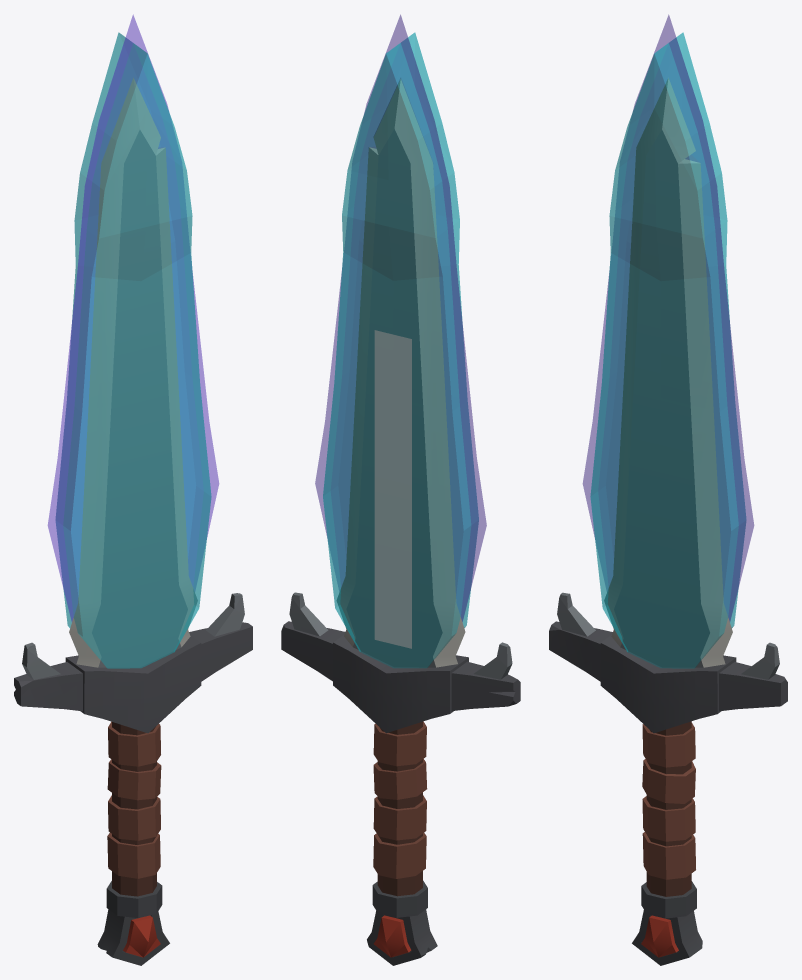
The model's file is rpg_dagger_03.glb.
The picture shows the model from 3 angles, left to right: view 1: azimuth 30°, elevation 25°; view 2: azimuth 150°, elevation 25°; view 3: azimuth 330°, elevation 25°; orthographic projection.
Parts seen in each view (by area): view 1: Dagger_03, skin_enchant_layer_1, skin_enchant_layer_2; view 2: Dagger_03, skin_enchant_layer_1, skin_enchant_layer_2, skin_runes_1; view 3: Dagger_03, skin_enchant_layer_1, skin_enchant_layer_2.
Boxes of the visible parts, bbox=[...] form: Dagger_03: bbox=[14, 78, 252, 965]; skin_enchant_layer_1: bbox=[55, 32, 211, 668]; skin_enchant_layer_2: bbox=[47, 14, 219, 621]; Dagger_03: bbox=[281, 78, 520, 965]; skin_enchant_layer_1: bbox=[323, 32, 478, 667]; skin_enchant_layer_2: bbox=[315, 14, 486, 621]; skin_runes_1: bbox=[374, 330, 411, 648]; Dagger_03: bbox=[549, 78, 787, 965]; skin_enchant_layer_1: bbox=[590, 32, 746, 668]; skin_enchant_layer_2: bbox=[582, 14, 754, 621].
Bounding box in the file's own units: 0.1628 × 0.6347 × 0.0362.
Materials: 4 (1 with a texture image).
